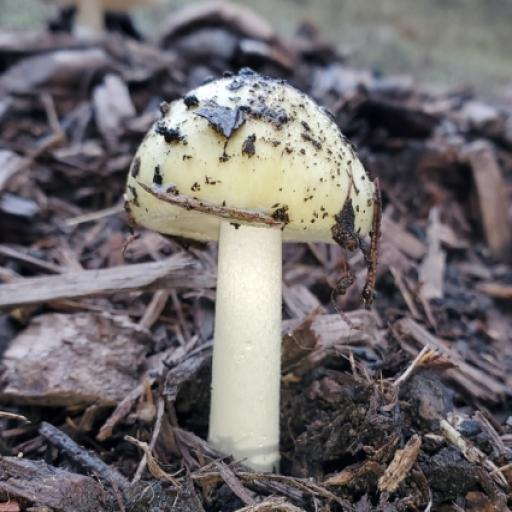mushroom: (38, 38, 424, 471), (218, 152, 230, 164)
